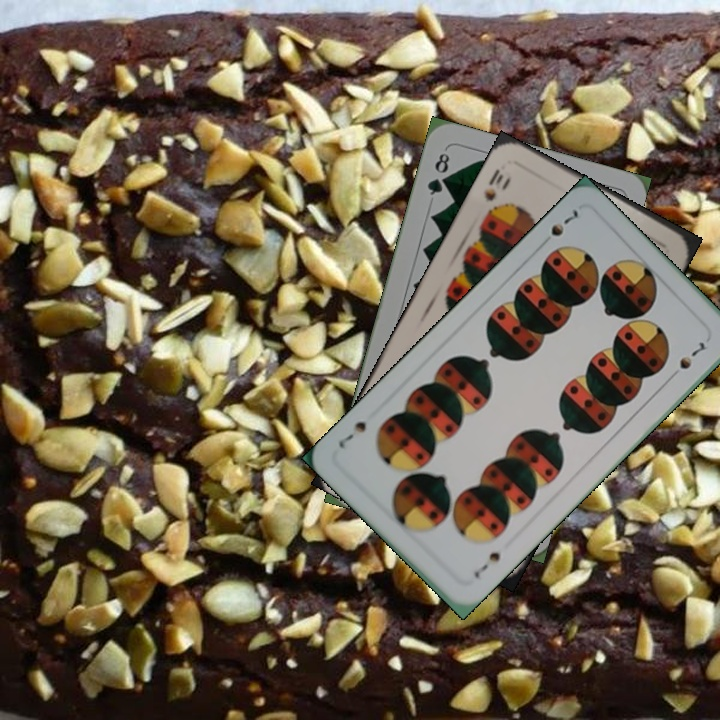G8: (423, 148, 452, 198)
S10: (479, 164, 515, 204)
S7: (547, 206, 581, 239), (470, 548, 503, 581)
